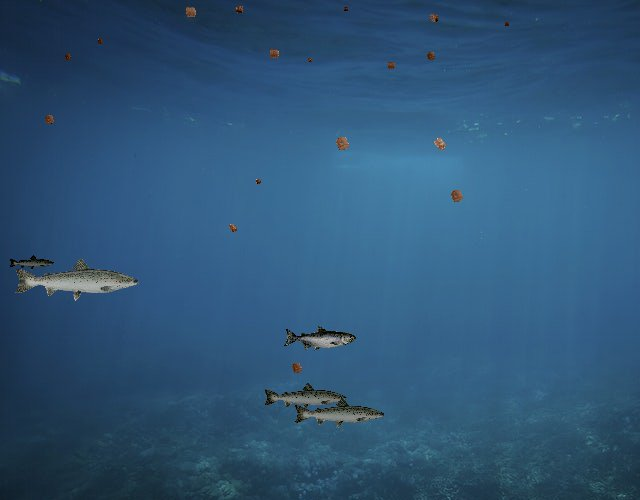Fish: (12, 256, 141, 302), (293, 396, 387, 430), (262, 381, 348, 412), (284, 326, 357, 352), (9, 254, 56, 271)
Pellet: (426, 131, 453, 158), (444, 183, 469, 209), (179, 1, 202, 24), (286, 357, 308, 379), (224, 219, 242, 237), (252, 176, 264, 188)
